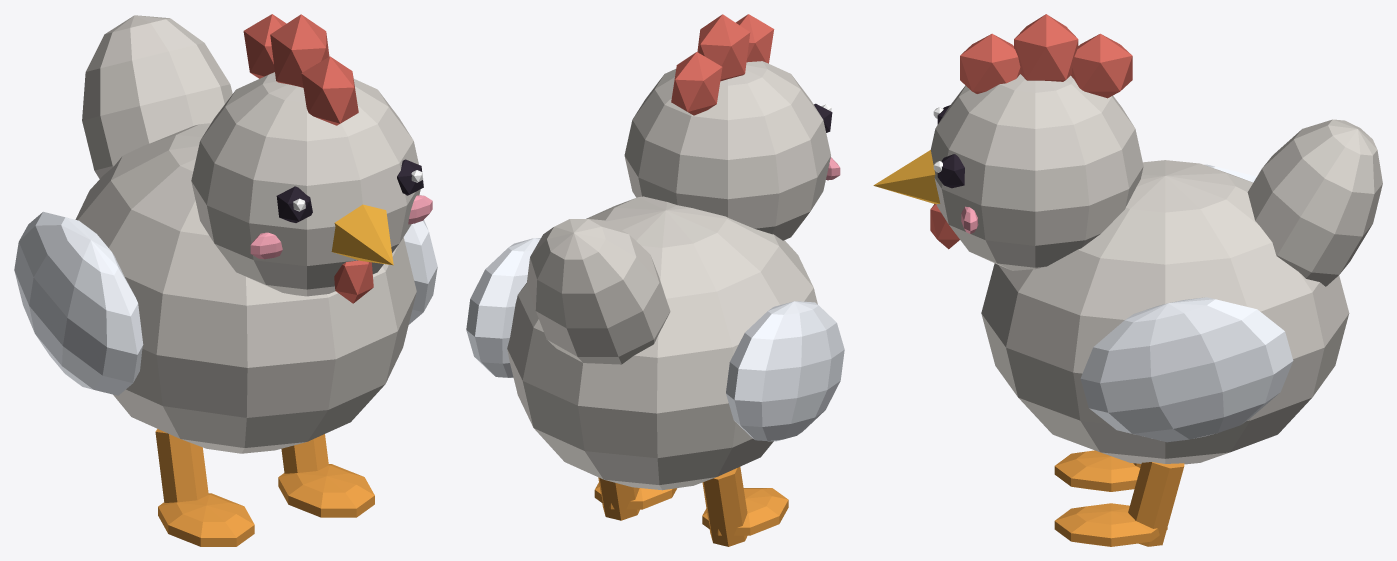
Rendered from chicken.glb.
3 renders of one model, left to right at view 1: azimuth 30°, elevation 25°; view 2: azimuth 150°, elevation 25°; view 3: azimuth 270°, elevation 25°, orthographic. The views are drawn at different scales.
Visible parts, largest first — view 1: body, head; view 2: body, head; view 3: body, head.
Part boxes in pixels (x1,y1,x2,y2): body: (14,15,437,546); head: (191,14,432,303); body: (466,196,844,546); head: (624,14,840,240); body: (981,119,1382,546); head: (873,14,1143,270).
Size of the model in its own units: 0.3549 by 0.5094 by 0.4711.
